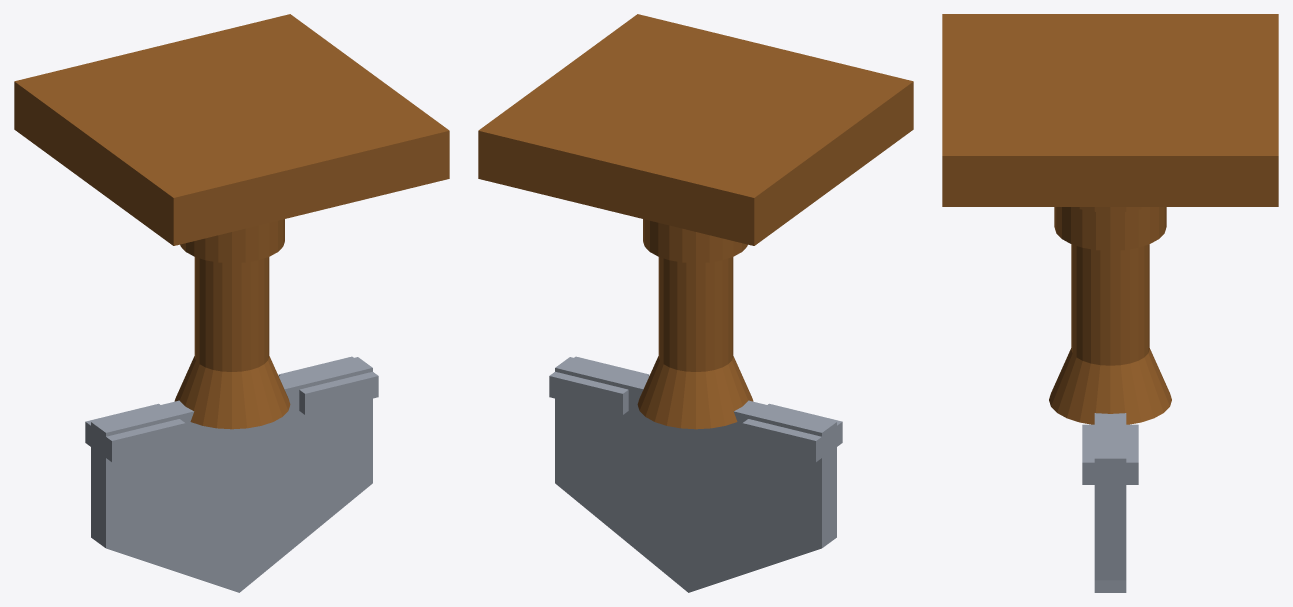
File: spade.dae
3 views of the same model, side by side, from view 1: azimuth 30°, elevation 25°; view 2: azimuth 150°, elevation 25°; view 3: azimuth 270°, elevation 25° (orthographic). The views are drawn at different scales.
Parts seen in each view (by area): view 1: spade; view 2: spade; view 3: spade.
Boxes of the visible parts, left/top/right/bottom form: spade: left=14, top=14, right=449, bottom=592; spade: left=478, top=14, right=913, bottom=592; spade: left=942, top=14, right=1278, bottom=592.
Bounding box in the file's own units: 0.3 × 0.3 × 0.5.
